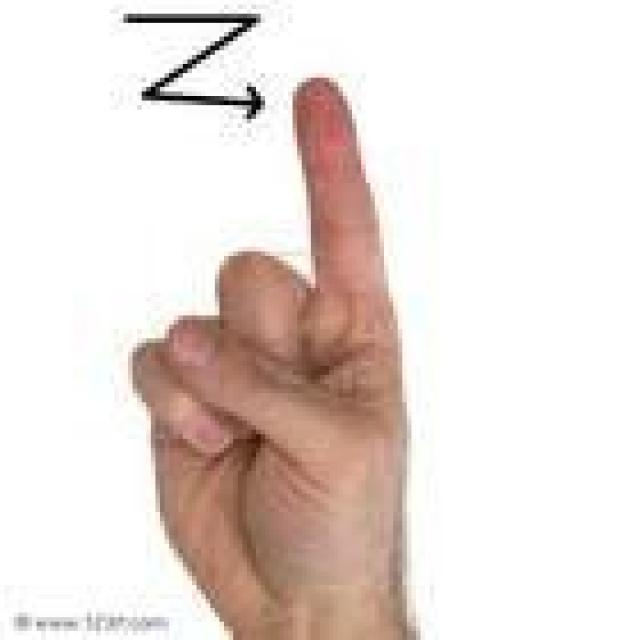Z: (121, 69, 423, 617)
